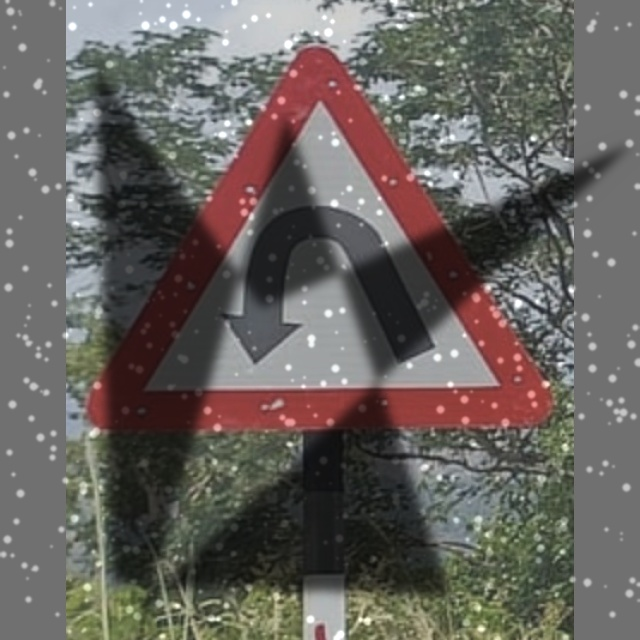Left_Hair_Pin_Bend: (95, 56, 547, 431)
